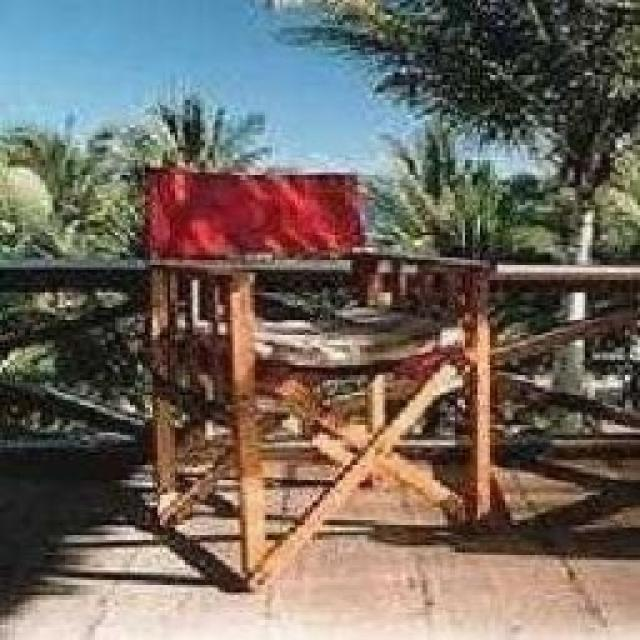sandalye: (135, 162, 483, 582)
